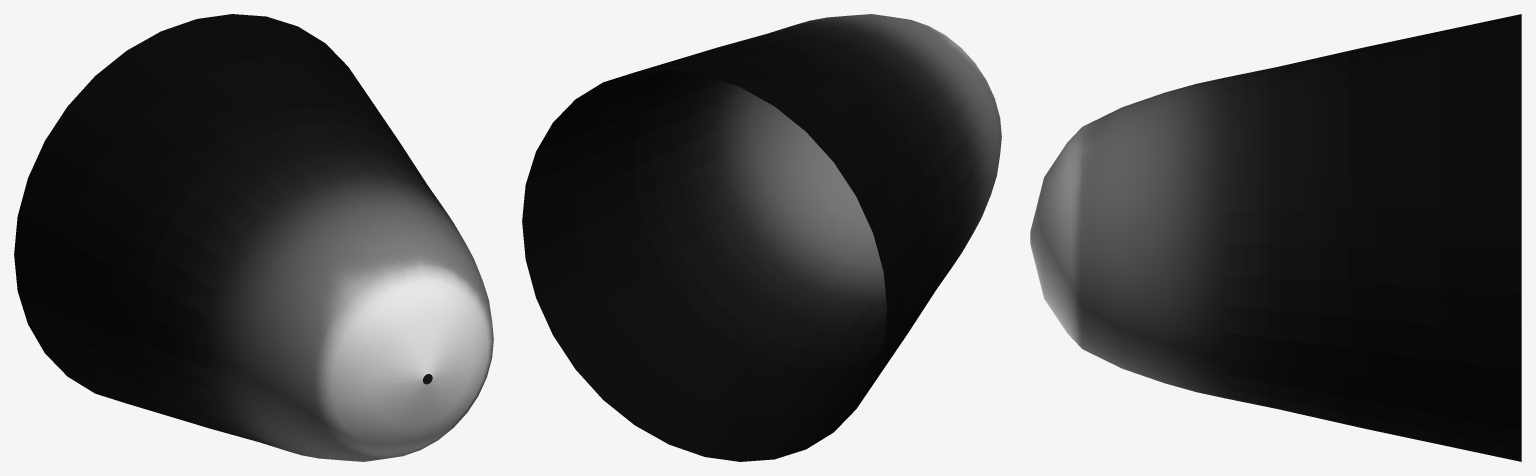
File: MagicMissile.fbx
The picture shows the model from 3 angles, left to right: view 1: azimuth 30°, elevation 25°; view 2: azimuth 150°, elevation 25°; view 3: azimuth 270°, elevation 25°; orthographic projection. The views are drawn at different scales.
Visible parts, largest first — view 1: Sphere001; view 2: Sphere001; view 3: Sphere001.
Part boxes in pixels (left/top/right/bottom): Sphere001: left=14, top=14, right=493, bottom=461; Sphere001: left=522, top=14, right=1001, bottom=461; Sphere001: left=1030, top=14, right=1521, bottom=461.
Bounding box in the file's own units: 49.18 × 49.18 × 53.92.
